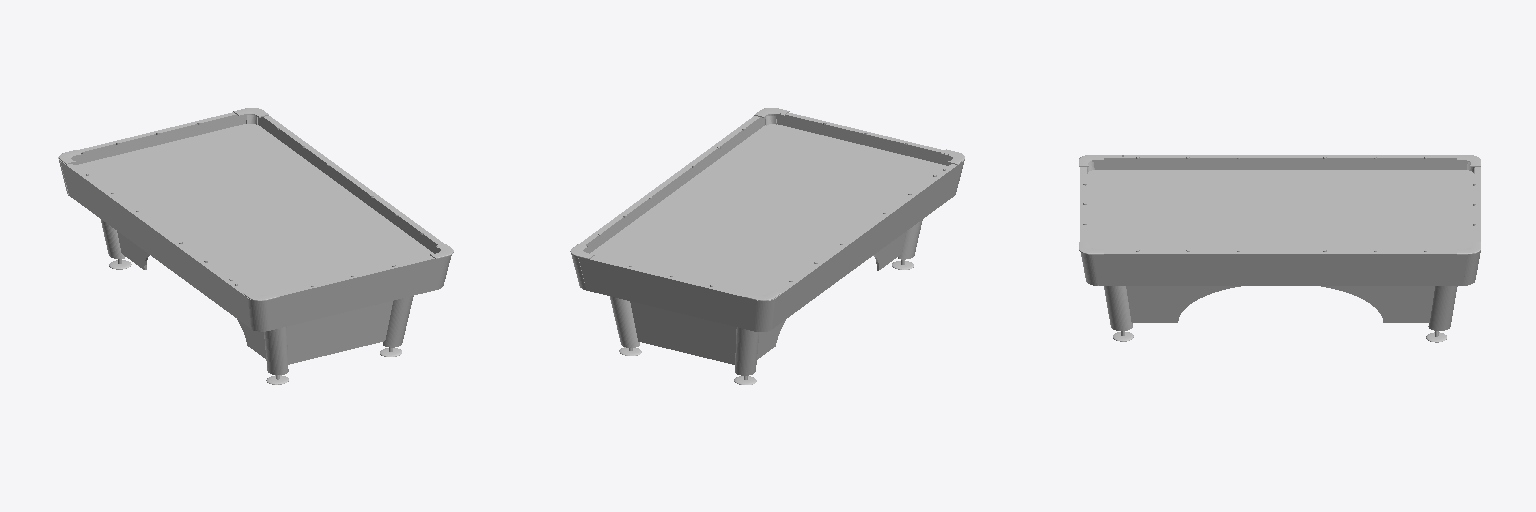
Rendered from pool-table-lower.obj.
3 views of the same model, side by side, from view 1: azimuth 30°, elevation 25°; view 2: azimuth 150°, elevation 25°; view 3: azimuth 270°, elevation 25° (orthographic).
Parts seen in each view (by area): view 1: Rectangle7, Rectangle10, Circle4, Rectangle8, Rectangle12, Object17; view 2: Rectangle7, Rectangle11, Circle4, Rectangle8, Rectangle12, Object17; view 3: Rectangle7, Rectangle9, Circle4, Rectangle12, Object17.
Boxes of the visible parts, x1,y1,x2,y2 form: Rectangle7: [60, 112, 444, 330]; Rectangle10: [287, 301, 392, 364]; Circle4: [101, 219, 413, 374]; Rectangle8: [117, 231, 265, 358]; Rectangle12: [58, 115, 451, 331]; Object17: [59, 108, 453, 258]; Rectangle7: [578, 113, 962, 330]; Rectangle11: [630, 301, 736, 364]; Circle4: [610, 219, 922, 375]; Rectangle8: [757, 232, 905, 359]; Rectangle12: [571, 116, 964, 331]; Object17: [570, 108, 789, 300]; Rectangle7: [1080, 155, 1480, 285]; Rectangle9: [1126, 286, 1434, 322]; Circle4: [1104, 286, 1457, 330]; Rectangle12: [1081, 161, 1480, 285]; Object17: [1079, 155, 1480, 254].
Bounding box in the file's own units: 1.76 × 0.8793 × 3.02.